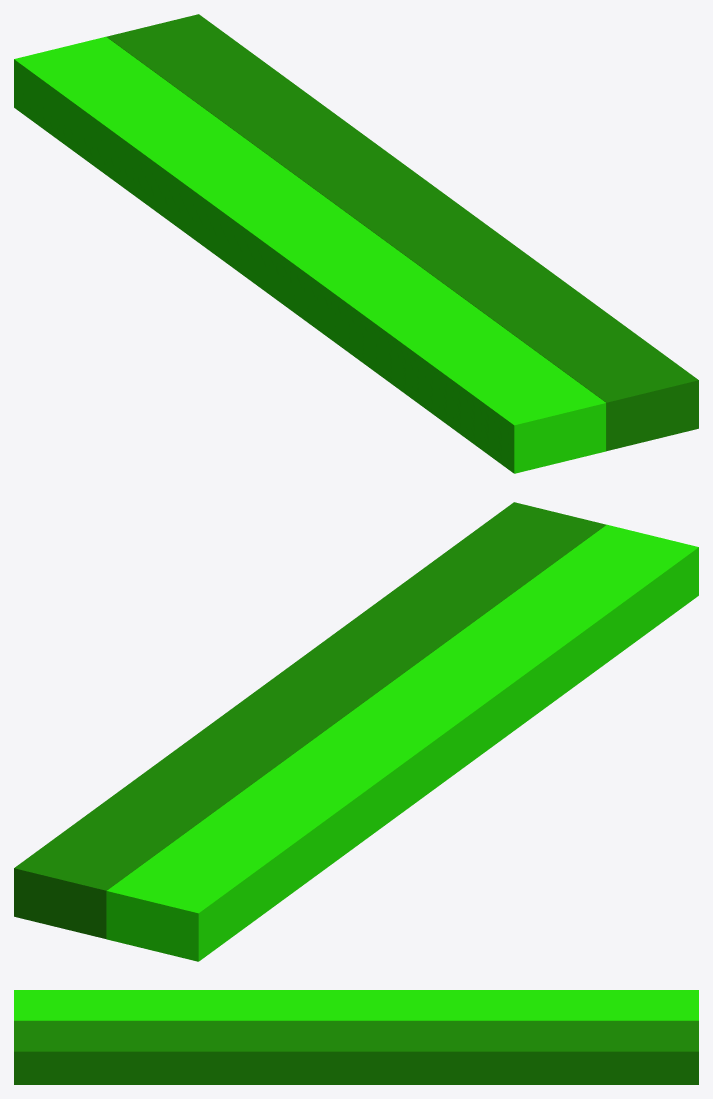
File: yol (1).fbx
3 renders of one model, top to bottom at view 1: azimuth 30°, elevation 25°; view 2: azimuth 150°, elevation 25°; view 3: azimuth 270°, elevation 25°, orthographic. The views are drawn at different scales.
Visible parts, largest first — view 1: Cube, Cube.001; view 2: Cube, Cube.001; view 3: Cube.001, Cube.
Part boxes in pixels (x1,y1,x2,y2): Cube: (14, 36, 606, 473); Cube.001: (106, 14, 698, 451); Cube: (106, 524, 698, 961); Cube.001: (14, 502, 606, 939); Cube.001: (14, 1021, 698, 1084); Cube: (14, 990, 698, 1020).
Bounding box in the file's own units: 134 × 33.6 × 628.
